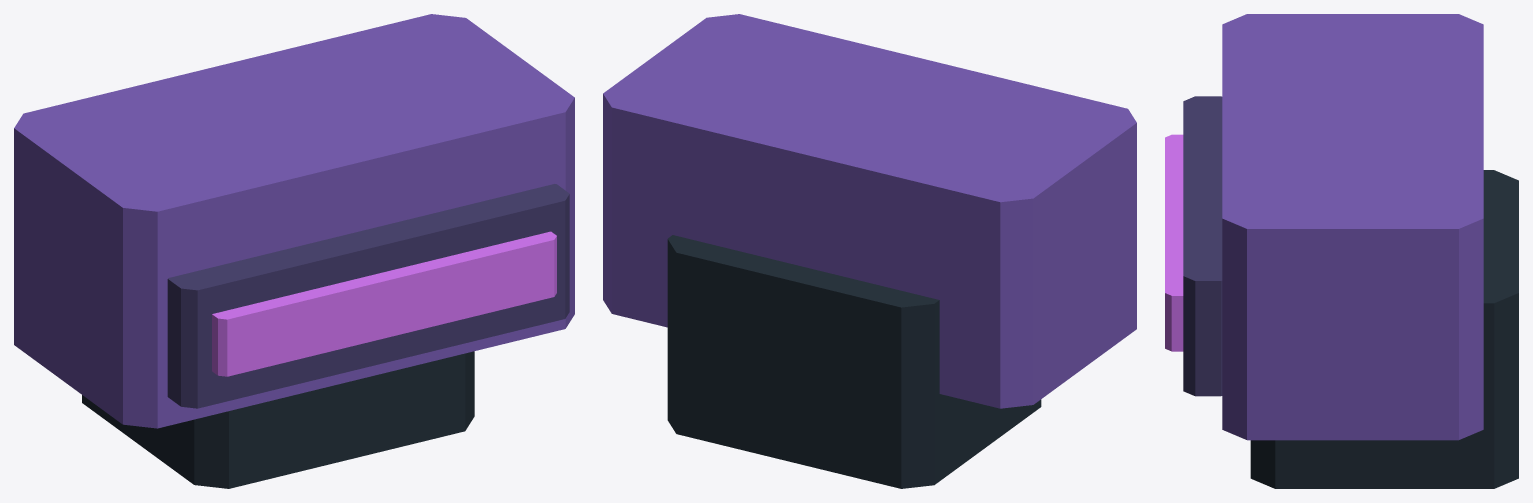
File: enemy_tank_lod_head.obj
The picture shows the model from 3 angles, left to right: view 1: azimuth 30°, elevation 25°; view 2: azimuth 150°, elevation 25°; view 3: azimuth 270°, elevation 25°; orthographic projection. The views are drawn at different scales.
Size of the model in its own units: 0.72 by 0.47 by 0.501.
